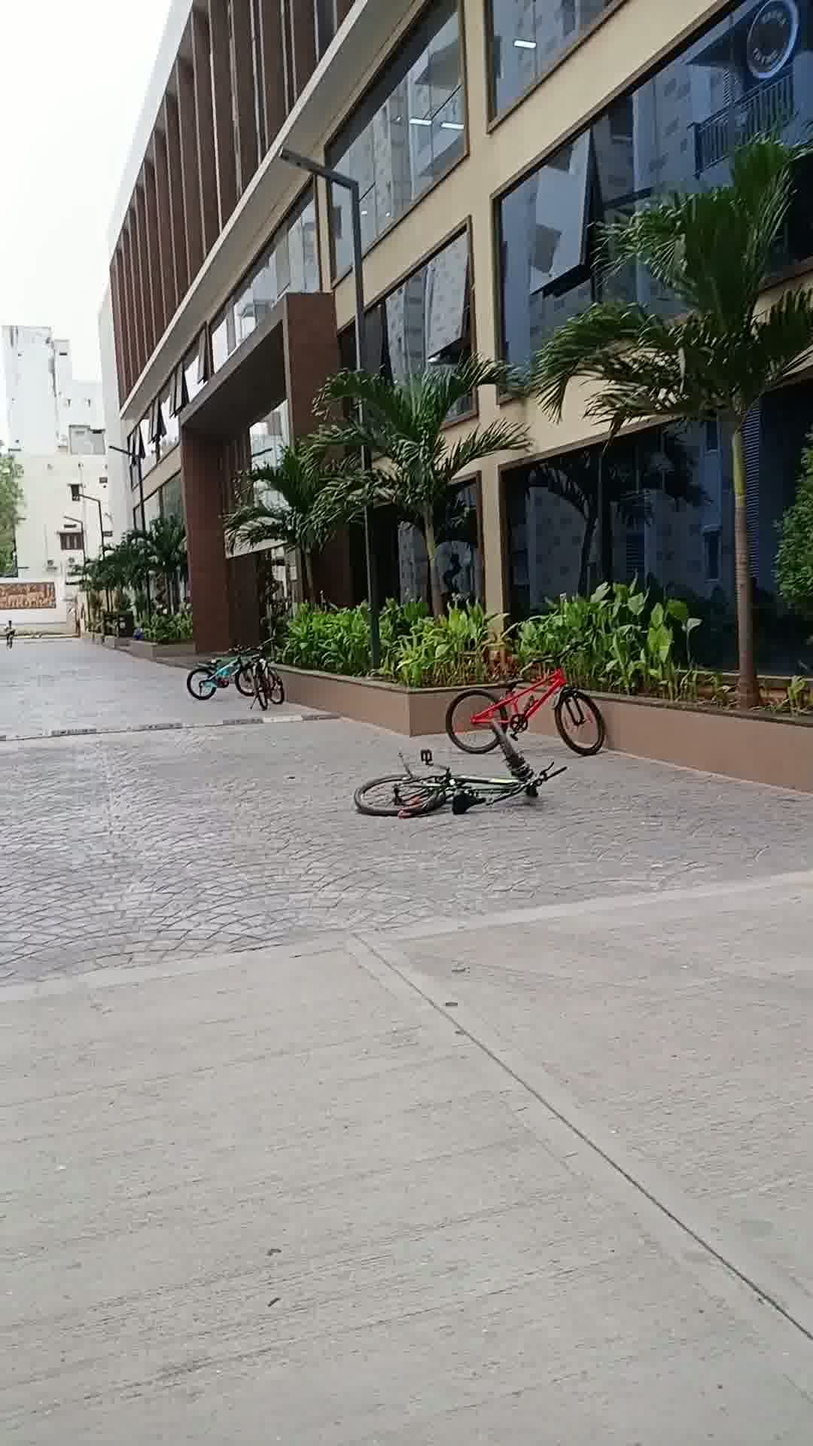bicycle: (434, 634, 638, 753), (337, 757, 566, 822), (175, 648, 327, 728)
tree: (541, 176, 813, 717), (302, 336, 532, 675), (213, 427, 353, 649), (120, 511, 198, 648)
